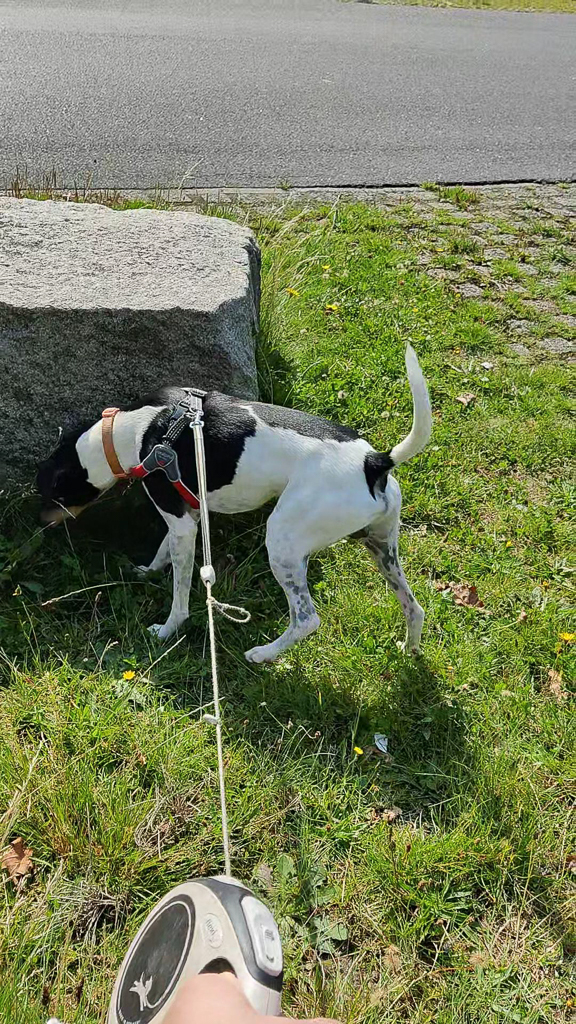Dog: (22, 328, 444, 668)
